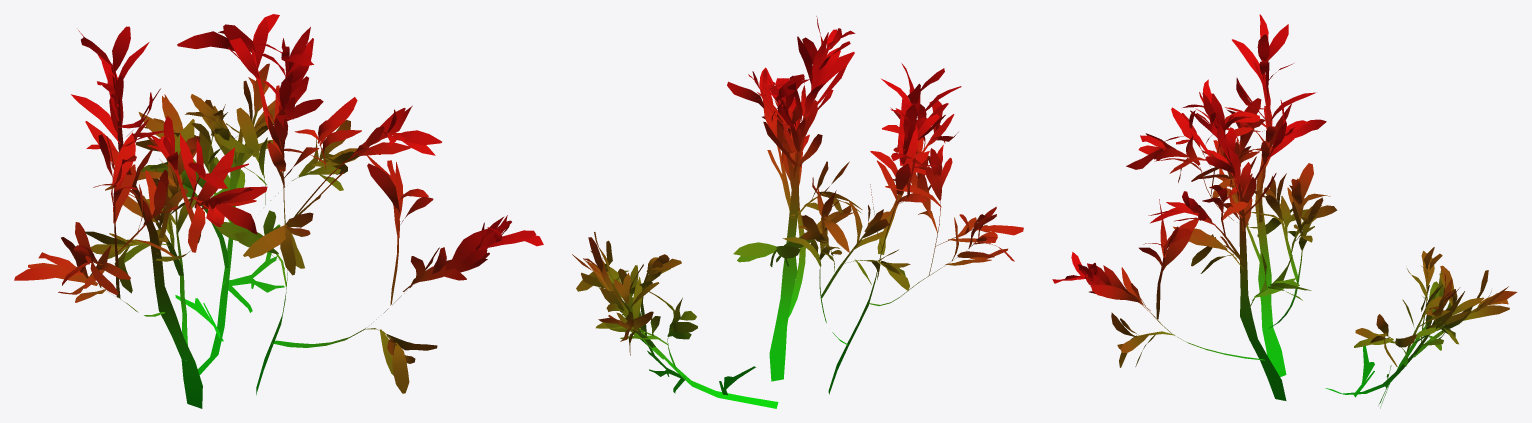
The model's file is Downy Willow_LOD2_Var11_wknlfiuqx.fbx.
3 views of the same model, side by side, from view 1: azimuth 30°, elevation 25°; view 2: azimuth 150°, elevation 25°; view 3: azimuth 270°, elevation 25° (orthographic). The views are drawn at different scales.
Visible parts, largest first — view 1: _kosq_Var11_LOD2; view 2: _kosq_Var11_LOD2; view 3: _kosq_Var11_LOD2.
Boxes of the visible parts, x1,y1,x2,y2 form: _kosq_Var11_LOD2: (14, 14, 543, 408); _kosq_Var11_LOD2: (572, 16, 1023, 408); _kosq_Var11_LOD2: (1052, 14, 1517, 408).
Size of the model in its own units: 50.95 by 46.57 by 61.88.
